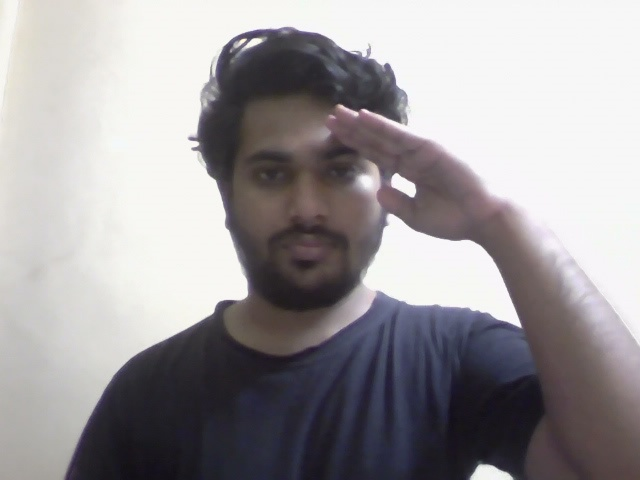hello: (180, 12, 640, 354)
